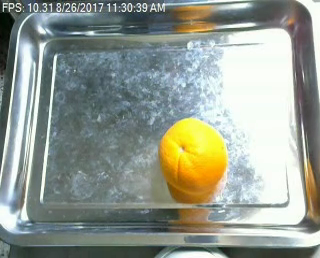Orange: (159, 116, 229, 195)
